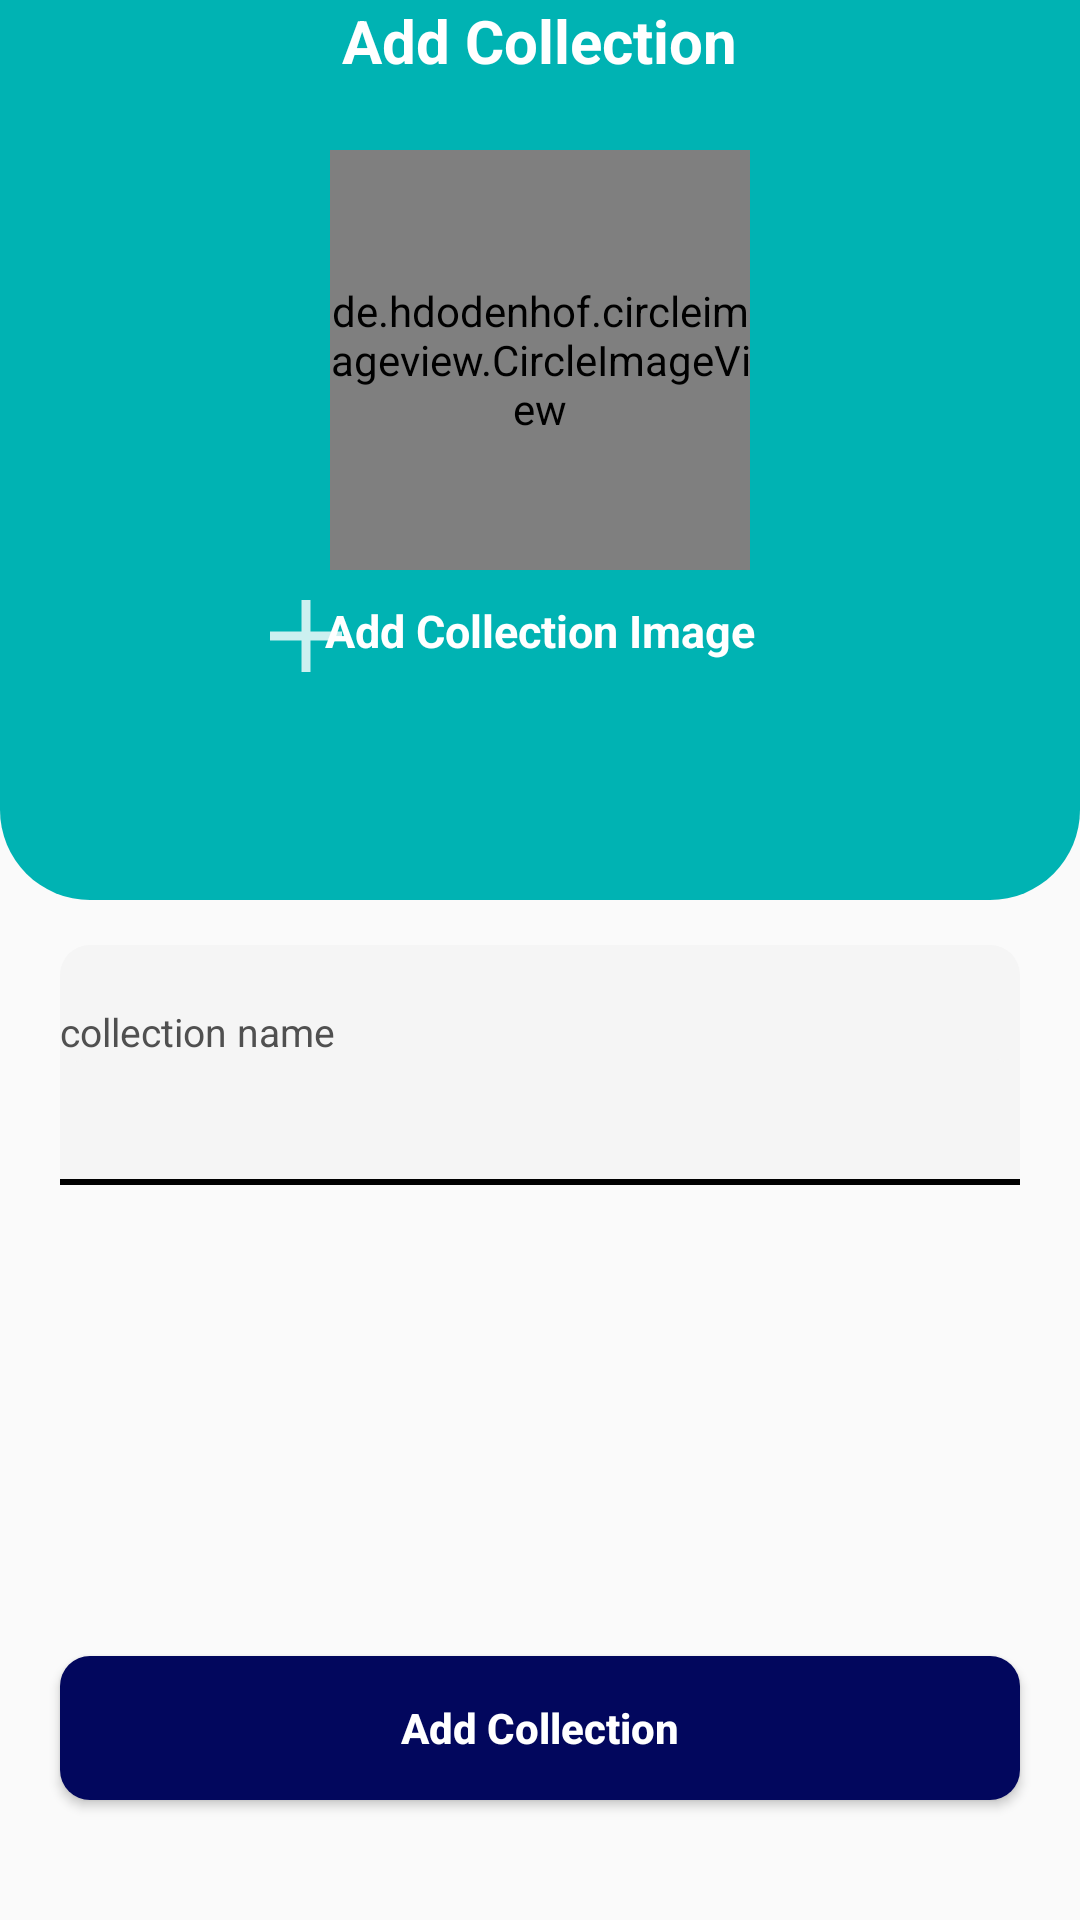

Where icons sit on this 1080 × 1920 app screen, as (x1, y1, x2, y2):
plus: (270, 600, 342, 672)
